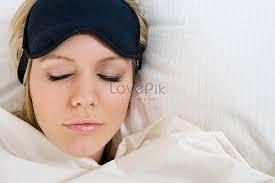Drowsy: (5, 0, 165, 159)
